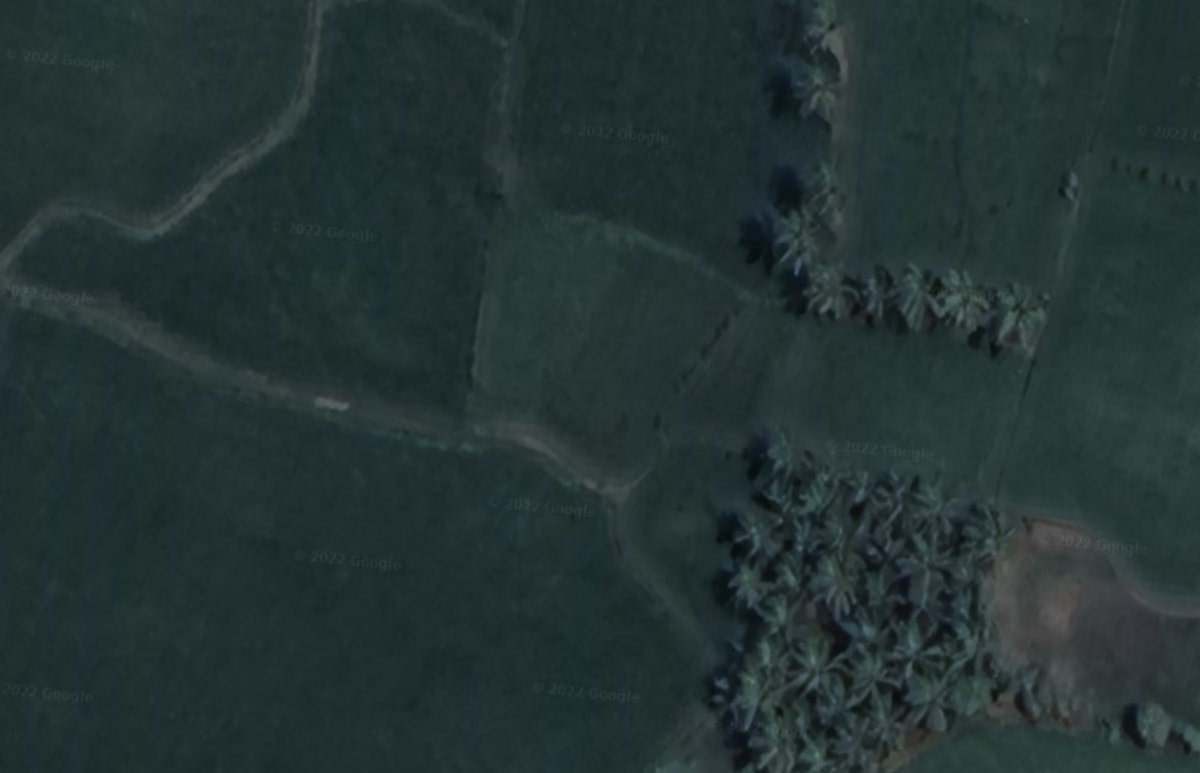coconut: (786, 248, 854, 325), (787, 0, 864, 66), (795, 155, 862, 228), (778, 63, 851, 125), (990, 285, 1049, 352), (832, 265, 891, 328), (883, 266, 934, 332), (810, 553, 862, 617), (936, 266, 980, 340), (764, 209, 820, 265), (746, 431, 803, 486), (904, 664, 955, 722), (910, 471, 959, 529), (900, 532, 950, 588), (725, 511, 780, 561), (837, 654, 891, 703), (969, 506, 1014, 563), (746, 726, 798, 773), (792, 638, 836, 693), (725, 565, 769, 612), (869, 470, 905, 520), (843, 471, 870, 517)
